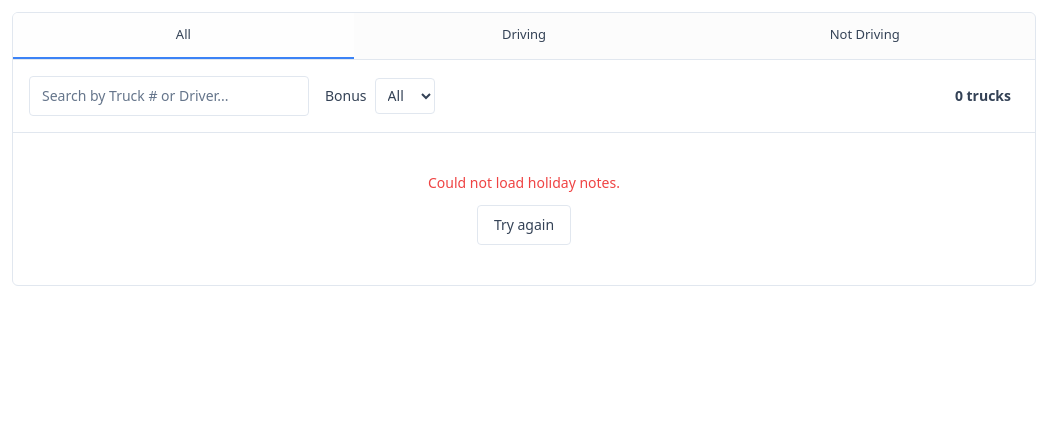
Test case: does not offer editable blank rows when the saved report fails to load
The width and height of the screenshot is (1048, 439).
Expected: the message "Could not load holiday notes. Try again" is shown, [428,172,620,244]
Step 1. Click the button "Try again" → (524, 224), box [477,204,571,244]
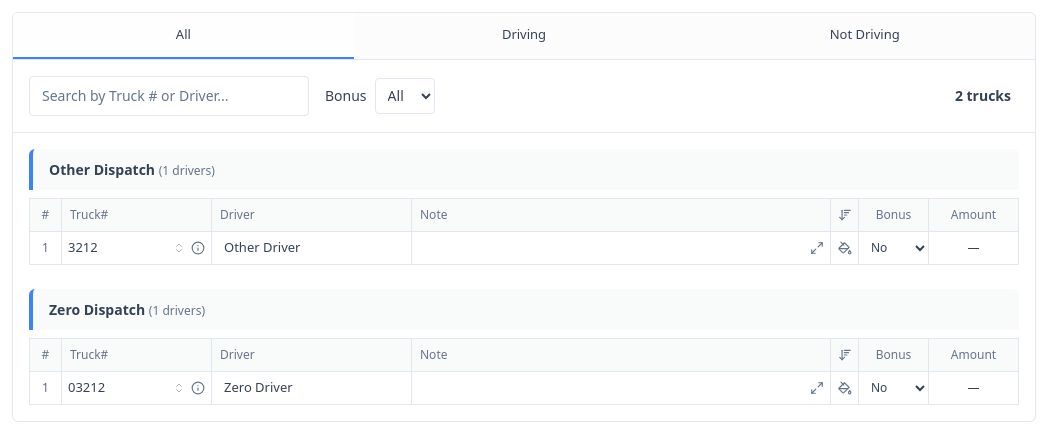
Expected: the number of dropdowns named "Truck number" is 2, [66,232,187,264]; [66,372,187,404]
